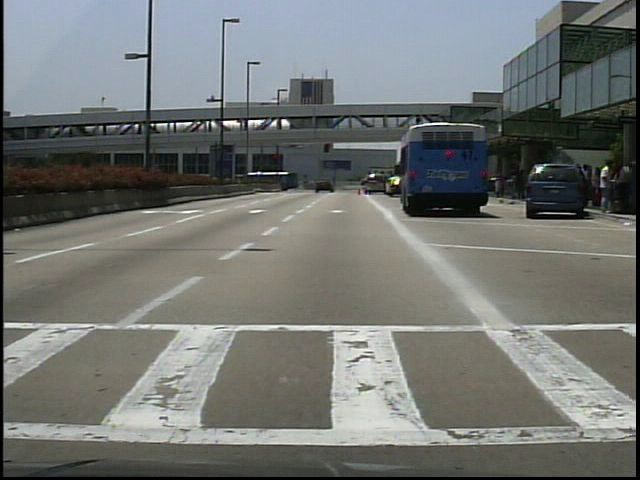person: (597, 160, 618, 214), (590, 163, 605, 210), (580, 161, 595, 207), (516, 167, 528, 203), (317, 180, 318, 196)
